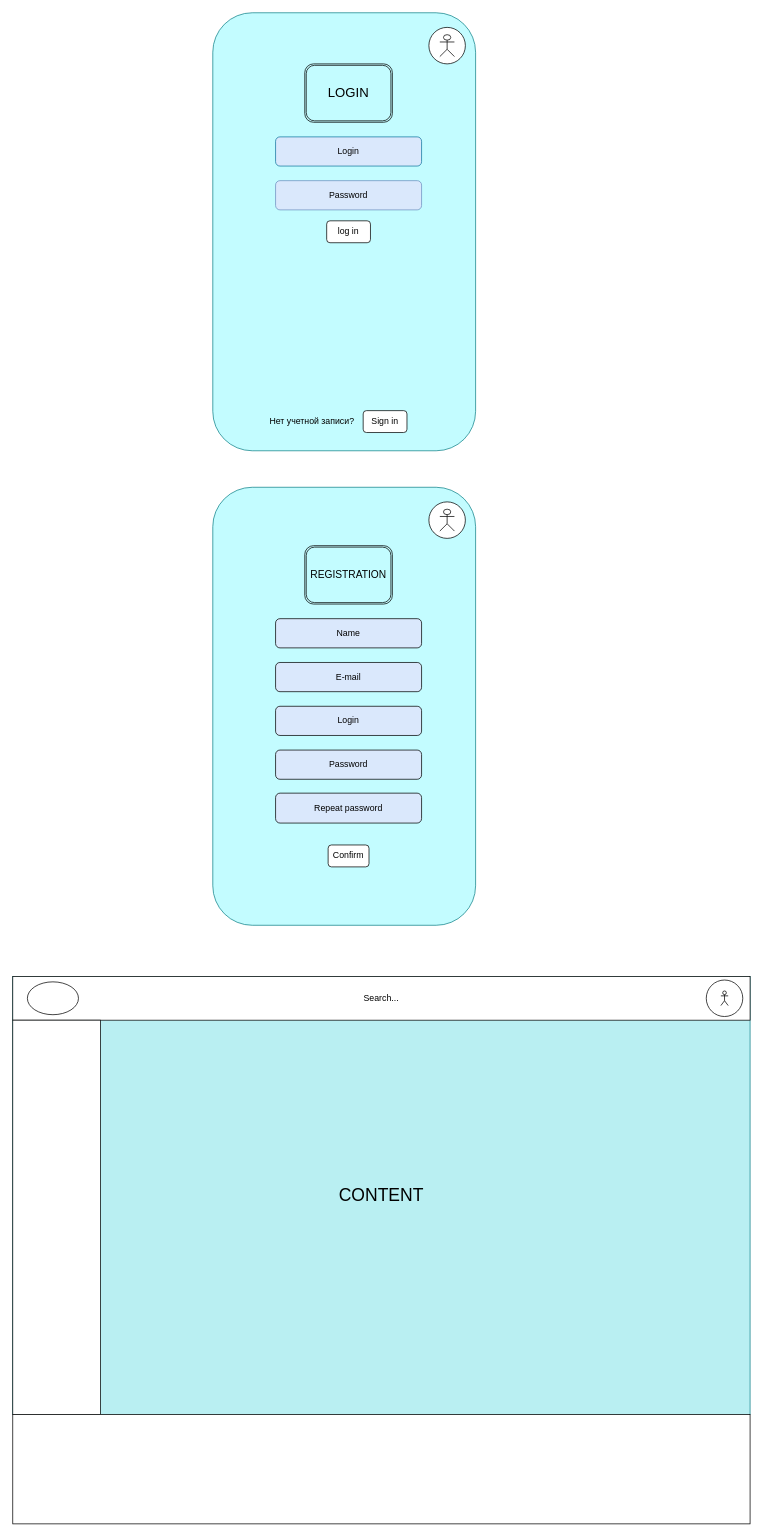
The diagram is 763 pixels wide and 1537 high, and some of its shapes have lost their labels. The shapes that lost their labels are listed below. From the top down, each one's centre as x and y in pixels, then its label:
(x=52, y=998): LOGO
(x=56, y=1216): LEFT SIDE BAR
(x=381, y=1469): FOOTER
